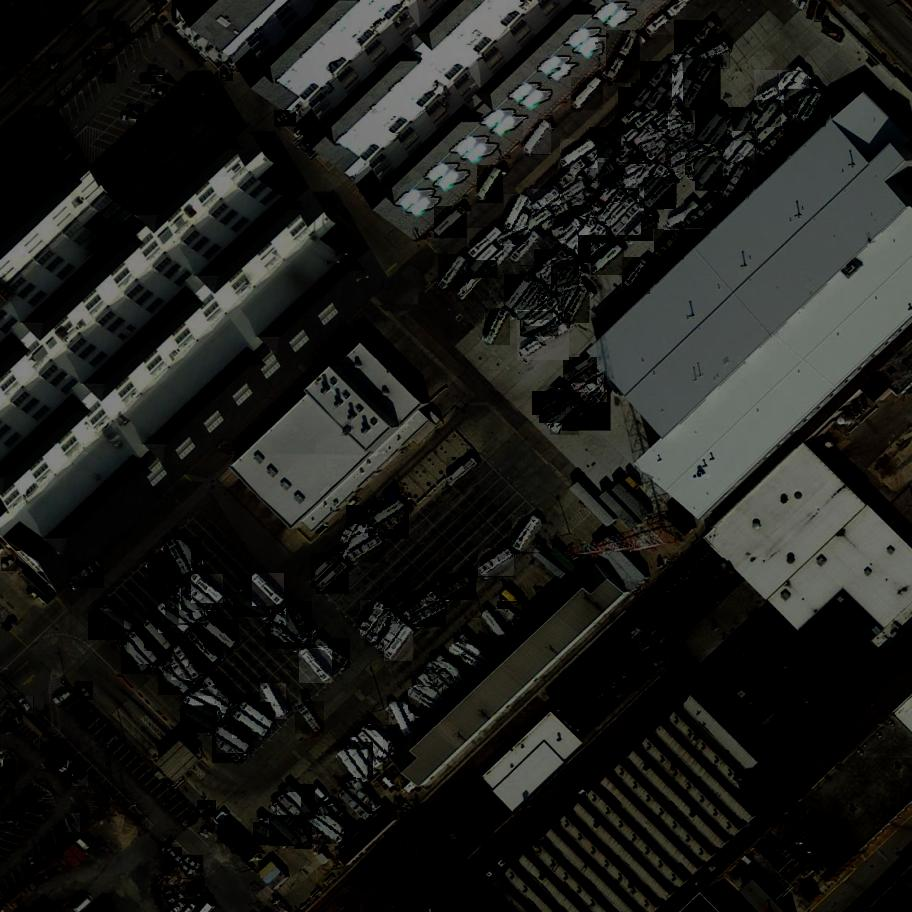large-vehicle: (619, 87, 671, 130), (590, 143, 634, 193), (674, 20, 719, 68), (632, 61, 674, 112), (615, 106, 663, 150), (562, 388, 611, 431), (635, 101, 677, 150), (684, 57, 721, 112), (755, 70, 810, 107), (598, 162, 651, 200), (635, 115, 689, 151), (518, 323, 569, 361), (553, 205, 608, 240), (548, 184, 583, 238), (607, 30, 641, 84), (641, 125, 696, 155), (645, 1, 686, 37), (365, 609, 398, 647), (350, 737, 385, 772), (482, 609, 514, 647), (512, 515, 542, 555), (592, 243, 627, 277), (534, 248, 569, 282), (589, 127, 622, 163), (571, 77, 604, 113), (300, 648, 333, 684), (597, 189, 629, 226), (695, 108, 727, 145), (505, 274, 536, 312), (317, 562, 351, 596), (158, 662, 192, 696), (188, 633, 222, 667), (253, 573, 287, 607), (435, 206, 470, 239), (510, 232, 543, 267), (467, 228, 502, 261), (311, 553, 343, 589), (403, 590, 439, 622), (379, 503, 410, 540), (558, 156, 589, 193), (561, 139, 598, 170), (338, 749, 368, 787), (457, 268, 490, 302), (604, 196, 638, 229), (566, 219, 599, 253), (644, 177, 678, 210), (129, 632, 161, 667), (158, 603, 193, 635), (212, 730, 244, 765), (460, 633, 491, 669), (121, 639, 152, 675), (384, 624, 414, 661), (438, 255, 468, 292), (314, 639, 351, 669), (273, 614, 310, 644), (577, 223, 607, 260), (449, 643, 487, 672), (551, 180, 589, 209), (523, 119, 552, 157), (551, 398, 580, 436), (347, 536, 386, 564), (346, 743, 374, 782), (510, 285, 549, 313), (446, 457, 480, 489), (144, 618, 176, 652), (665, 72, 697, 106), (759, 127, 791, 161), (424, 668, 455, 703), (418, 674, 449, 709), (489, 238, 520, 273), (89, 611, 124, 642), (781, 72, 812, 107), (726, 141, 757, 176), (696, 157, 727, 192), (479, 549, 515, 579), (587, 144, 614, 184), (203, 620, 239, 650), (204, 676, 234, 712), (704, 116, 734, 152), (165, 597, 202, 626), (148, 558, 177, 595), (308, 816, 345, 845), (233, 711, 270, 740), (623, 258, 652, 295), (798, 91, 827, 128), (640, 166, 669, 203), (367, 501, 405, 529), (477, 165, 505, 203), (179, 586, 207, 624), (67, 561, 105, 589), (340, 788, 373, 820), (269, 814, 302, 846), (555, 269, 587, 302), (467, 245, 498, 279), (169, 537, 203, 568), (361, 600, 388, 639), (685, 151, 724, 178), (623, 164, 662, 191), (437, 654, 467, 689), (518, 291, 553, 321), (217, 726, 253, 755), (240, 702, 276, 731), (667, 55, 696, 91), (579, 236, 615, 265), (346, 505, 372, 545), (784, 89, 824, 115), (164, 659, 201, 687), (181, 583, 218, 611), (180, 706, 217, 734), (410, 601, 448, 628), (439, 573, 477, 600), (565, 286, 592, 324), (550, 286, 591, 311), (612, 202, 643, 235), (191, 574, 225, 604), (497, 602, 532, 631), (527, 189, 562, 218), (173, 646, 202, 681), (286, 784, 315, 819), (295, 701, 324, 736), (523, 299, 558, 328), (721, 131, 756, 160), (343, 524, 369, 563), (426, 662, 462, 690), (519, 210, 555, 238), (351, 778, 379, 814), (320, 805, 348, 841), (286, 602, 313, 639), (164, 541, 191, 578), (552, 260, 579, 297), (658, 133, 689, 165), (265, 624, 303, 650), (194, 690, 232, 716), (753, 101, 782, 135), (684, 201, 718, 230), (253, 822, 294, 846), (571, 365, 606, 393), (540, 397, 575, 425), (360, 726, 399, 751), (408, 686, 444, 713), (97, 606, 134, 632), (261, 683, 287, 720), (731, 107, 757, 144), (724, 163, 750, 200), (358, 731, 389, 762), (655, 229, 685, 261), (758, 114, 788, 146), (379, 617, 404, 655), (504, 195, 529, 233), (234, 592, 272, 617), (486, 309, 511, 347), (664, 205, 702, 230), (563, 357, 598, 384), (695, 44, 731, 70), (542, 258, 578, 284), (520, 315, 559, 339), (493, 221, 530, 246), (580, 371, 608, 404), (666, 141, 700, 168), (389, 701, 413, 739), (183, 696, 221, 720), (622, 217, 658, 242), (672, 152, 709, 176), (532, 391, 568, 415), (277, 792, 302, 817), (269, 805, 297, 825), (300, 814, 319, 840), (295, 824, 313, 850)
small-vehicle: (52, 687, 76, 708), (275, 109, 296, 129), (182, 855, 203, 874), (212, 810, 231, 830), (165, 847, 184, 866), (76, 681, 94, 701), (75, 702, 92, 723), (197, 800, 216, 818), (83, 49, 101, 68), (814, 3, 830, 24), (48, 54, 65, 73), (178, 860, 194, 880), (66, 813, 81, 833), (58, 758, 75, 775), (19, 696, 35, 714), (102, 65, 118, 83), (97, 10, 113, 28), (59, 820, 74, 839), (112, 21, 127, 40), (166, 891, 185, 906), (72, 770, 89, 786), (7, 709, 24, 725), (47, 746, 64, 762), (127, 104, 144, 120), (152, 86, 170, 101), (3, 760, 18, 777), (75, 809, 89, 826), (102, 731, 117, 746), (194, 887, 209, 902), (96, 37, 112, 51), (1, 558, 18, 571), (7, 805, 24, 818), (5, 814, 22, 827), (55, 753, 68, 770), (163, 886, 180, 899), (27, 855, 39, 873), (122, 113, 139, 124), (41, 838, 51, 855), (220, 69, 233, 82), (22, 795, 38, 805), (140, 76, 156, 84), (149, 68, 165, 75)
